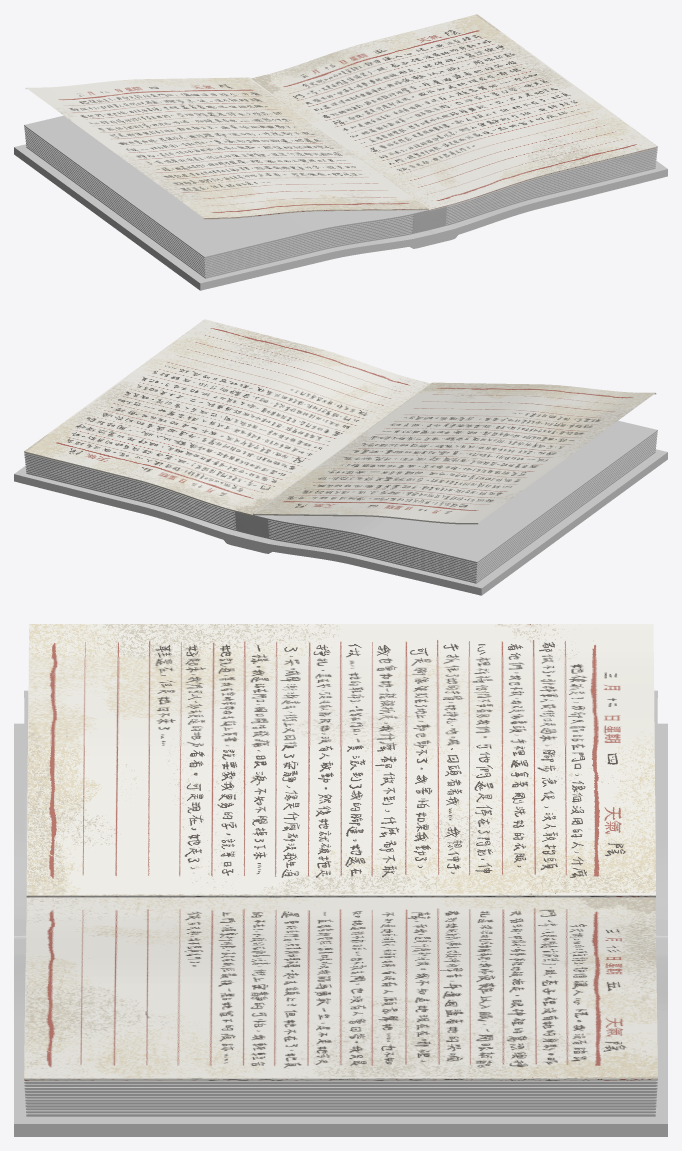
The model's file is diary_open0206.fbx.
3 views of the same model, one above another, from view 1: azimuth 30°, elevation 25°; view 2: azimuth 150°, elevation 25°; view 3: azimuth 270°, elevation 25° (orthographic). The views are drawn at different scales.
Parts seen in each view (by area): view 1: book_openright, book_openleft, book_openinside, book_open; view 2: book_openright, book_openleft, book_openinside, book_open; view 3: book_openleft, book_openright, book_openinside, book_open.
Boxes of the visible parts, x1,y1,x2,y2 form: book_openright: [251, 14, 657, 211]; book_openleft: [25, 77, 428, 219]; book_openinside: [24, 115, 657, 278]; book_open: [14, 144, 667, 290]; book_openright: [24, 319, 430, 516]; book_openleft: [253, 382, 656, 524]; book_openinside: [24, 420, 657, 583]; book_open: [14, 449, 667, 595]; book_openleft: [26, 624, 655, 897]; book_openright: [24, 897, 657, 1080]; book_openinside: [24, 690, 657, 1116]; book_open: [14, 723, 667, 1136].
Size of the model in its own units: 74.4 by 11.91 by 51.32.
